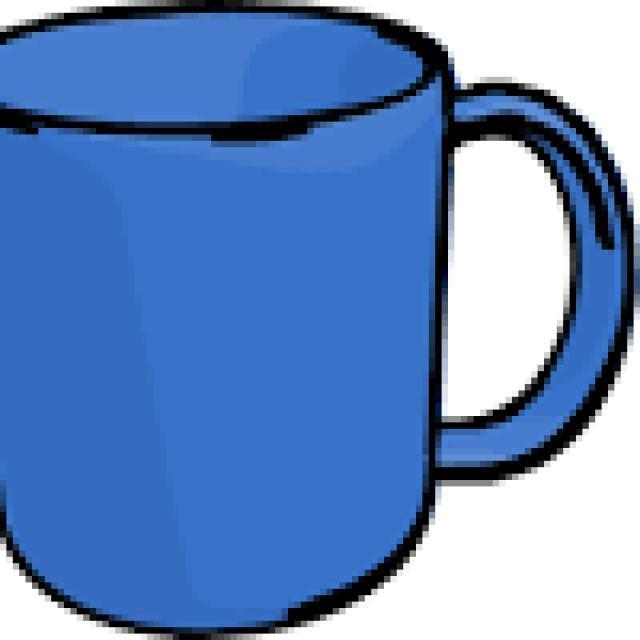taza: (2, 0, 640, 633)
